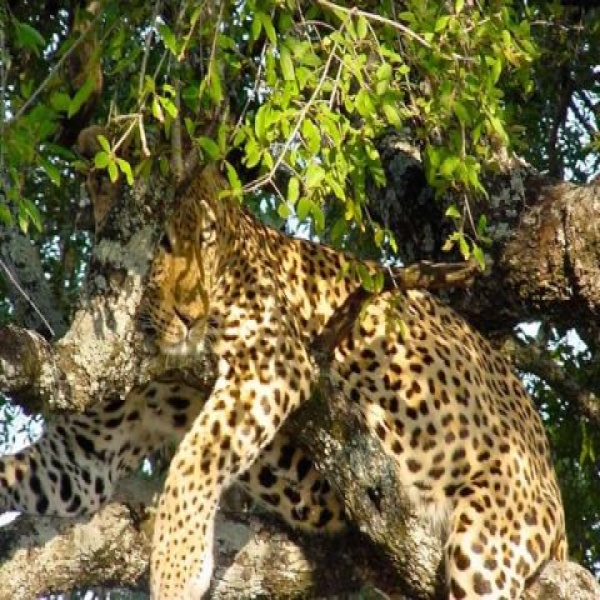Leopard: (11, 118, 569, 600)
